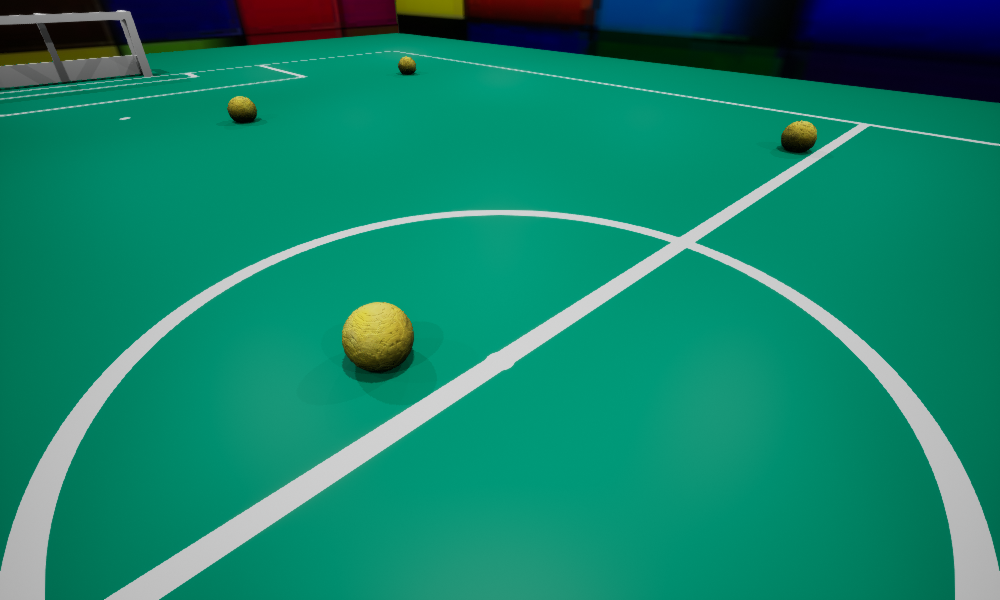b: (342, 302, 413, 371), (781, 120, 816, 151), (227, 96, 256, 122), (398, 56, 415, 74)
g: (0, 10, 152, 87)
